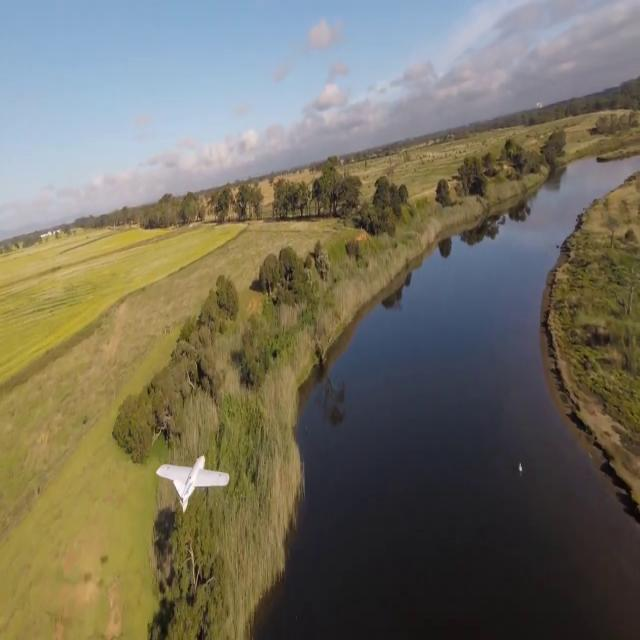iha: (189, 455, 201, 495)
